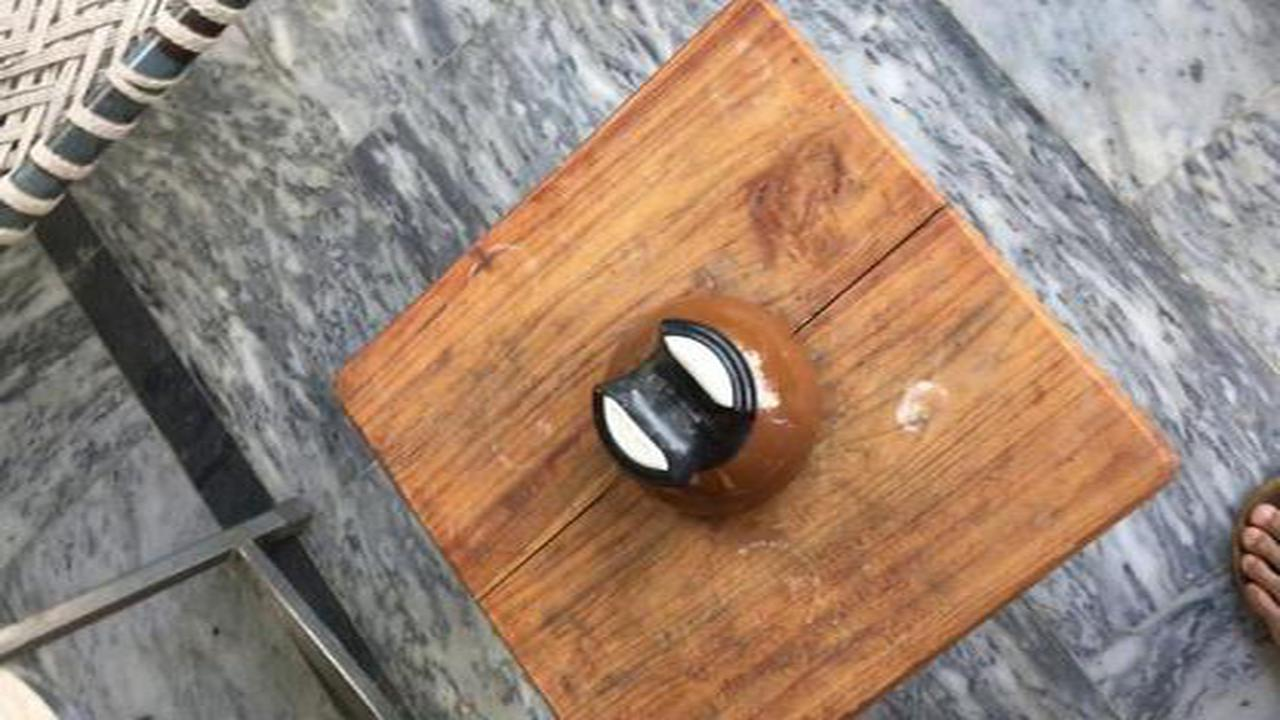insulator_pin: (576, 286, 841, 535)
